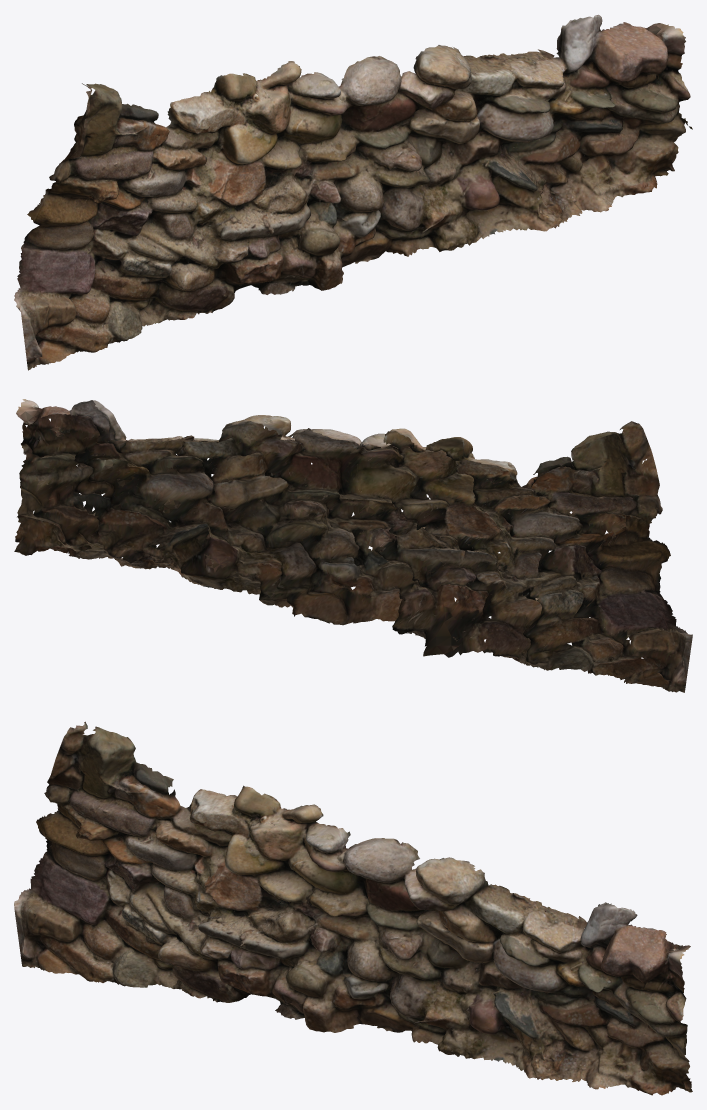
Rendered from rocks_wall.glb.
The picture shows the model from 3 angles, top to bottom: view 1: azimuth 30°, elevation 25°; view 2: azimuth 150°, elevation 25°; view 3: azimuth 330°, elevation 25°; orthographic projection. The views are drawn at different scales.
Visible parts, largest first — view 1: msh_rocksWallShape_2_0 (×2); view 2: msh_rocksWallShape_2_0 (×2); view 3: msh_rocksWallShape_2_0 (×2).
Boxes of the visible parts, <box> form: msh_rocksWallShape_2_0 (×2): <box>14,14,692,370</box>; msh_rocksWallShape_2_0 (×2): <box>14,399,692,692</box>; msh_rocksWallShape_2_0 (×2): <box>14,721,692,1095</box>.
Bounding box in the file's own units: 19.74 × 7.37 × 2.5.
Materials: 1 (1 with a texture image).
